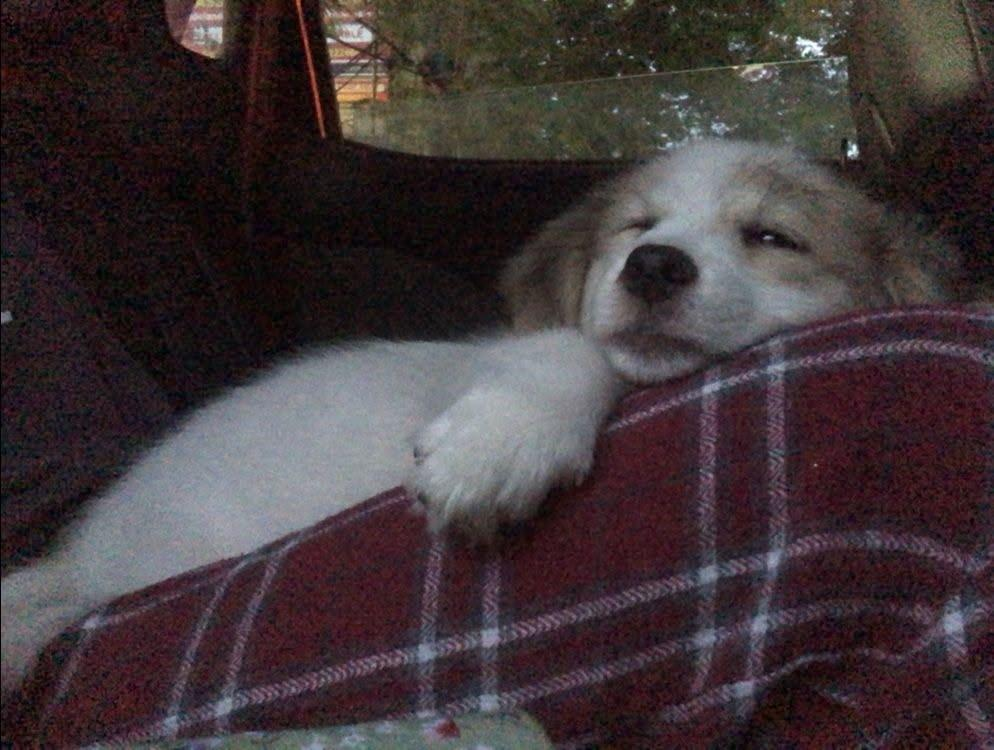puppy-dog: (2, 131, 966, 701)
